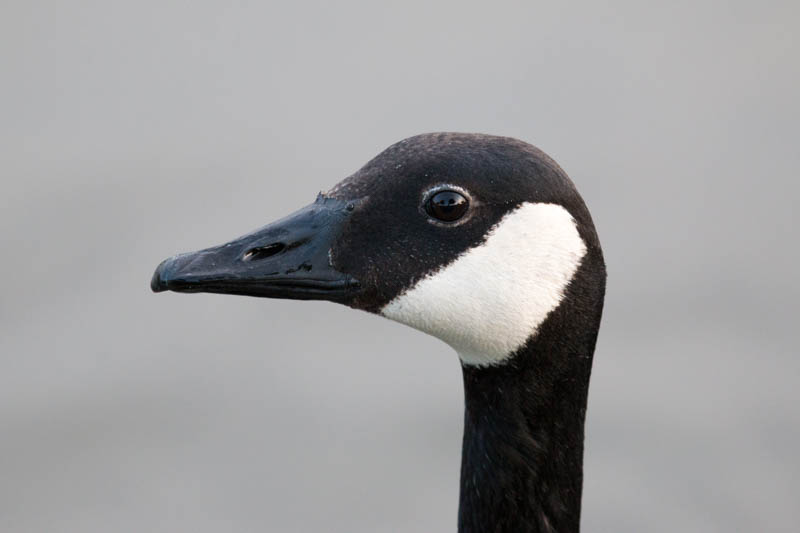goose-head: (150, 131, 608, 371)
